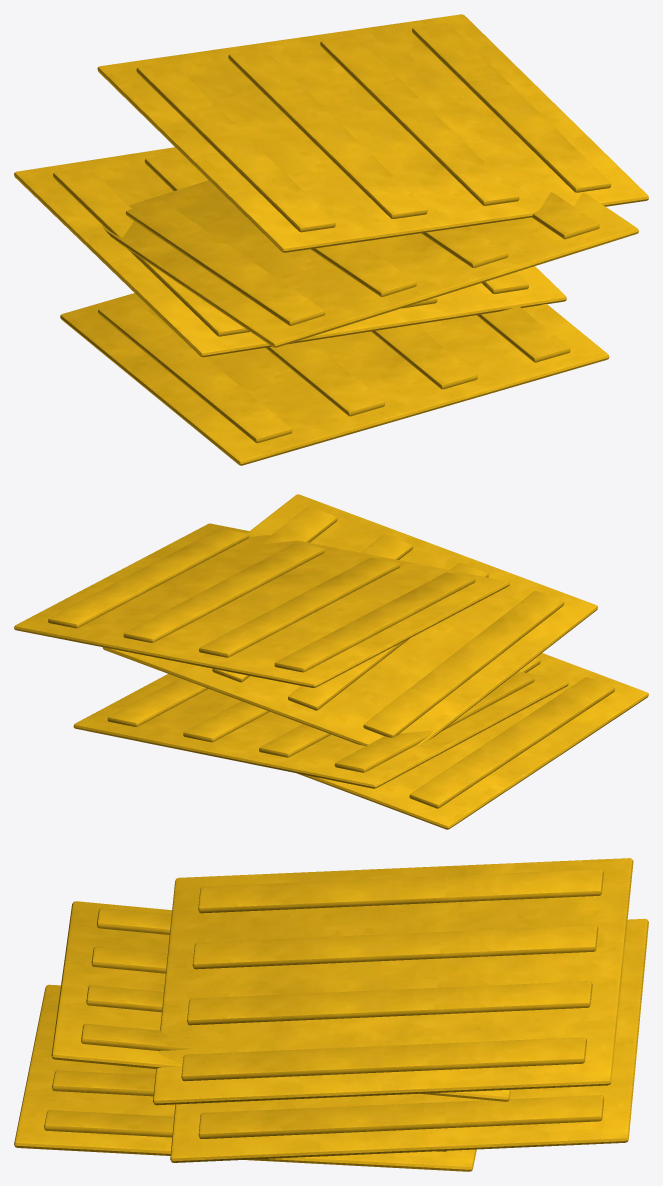
Rendered from PIS-TAT-004_anim.glb.
3 views of the same model, one above another, from view 1: azimuth 30°, elevation 25°; view 2: azimuth 150°, elevation 25°; view 3: azimuth 270°, elevation 25° (orthographic). The views are drawn at different scales.
Parts seen in each view (by area): view 1: PIS-TAT-004_anim3, PIS-TAT-004_anim0, PIS-TAT-004_anim2, PIS-TAT-004_anim1; view 2: PIS-TAT-004_anim3, PIS-TAT-004_anim2, PIS-TAT-004_anim1, PIS-TAT-004_anim0; view 3: PIS-TAT-004_anim3, PIS-TAT-004_anim1, PIS-TAT-004_anim2, PIS-TAT-004_anim0.
Part boxes in pixels (<box>): PIS-TAT-004_anim3: <box>97,14,648,252</box>; PIS-TAT-004_anim0: <box>60,293,609,465</box>; PIS-TAT-004_anim2: <box>102,180,638,347</box>; PIS-TAT-004_anim1: <box>14,147,566,357</box>; PIS-TAT-004_anim3: <box>14,523,509,688</box>; PIS-TAT-004_anim2: <box>102,494,597,746</box>; PIS-TAT-004_anim1: <box>73,671,568,788</box>; PIS-TAT-004_anim0: <box>297,653,648,829</box>; PIS-TAT-004_anim3: <box>153,858,633,1105</box>; PIS-TAT-004_anim1: <box>170,918,648,1162</box>; PIS-TAT-004_anim2: <box>51,901,510,1101</box>; PIS-TAT-004_anim0: <box>14,984,476,1171</box>.
Bounding box in the file's own units: 0.3331 × 0.1267 × 0.3448.
1 material, 1 textured.
